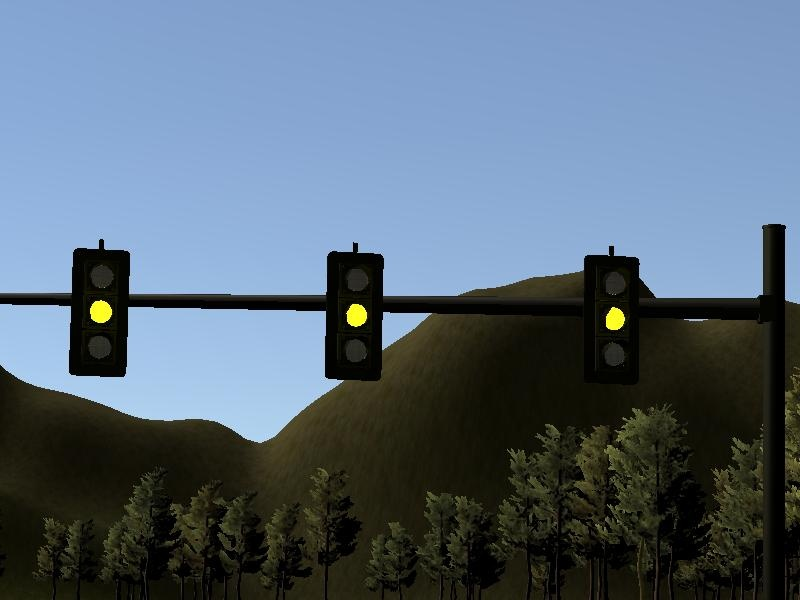yellow: (65, 237, 134, 384), (575, 243, 643, 391), (321, 241, 385, 387)
